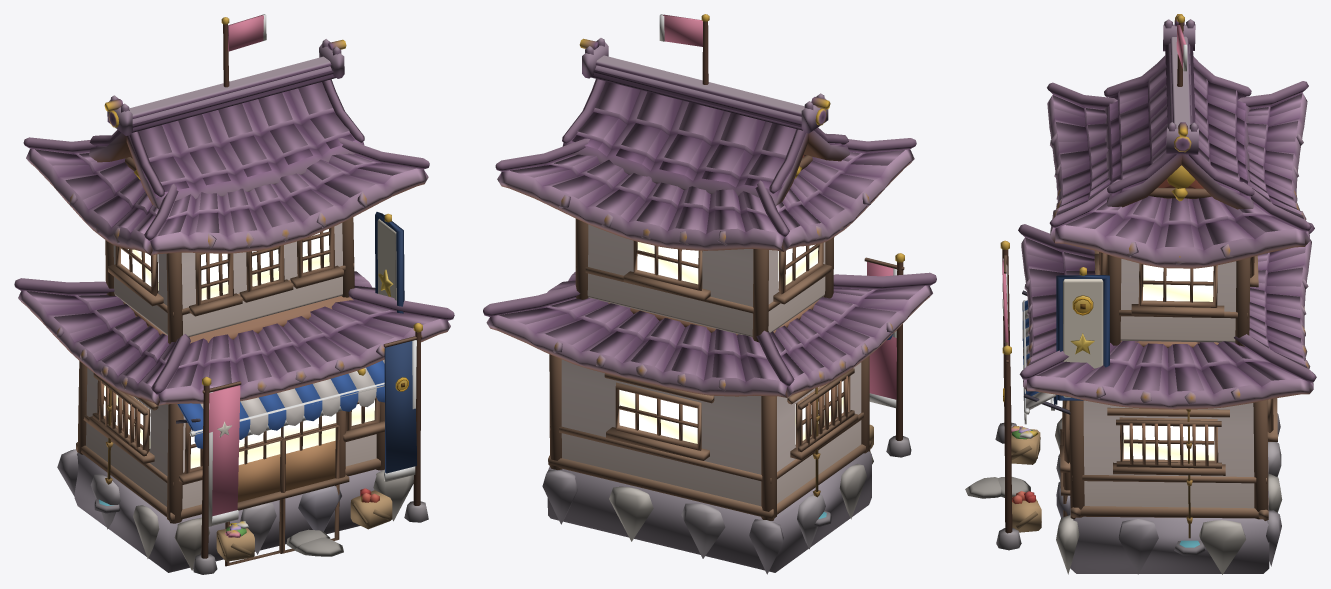
Rendered from shop-3-v7.glb.
3 renders of one model, left to right at view 1: azimuth 30°, elevation 25°; view 2: azimuth 150°, elevation 25°; view 3: azimuth 270°, elevation 25°, orthographic. The views are drawn at different scales.
Visible parts, largest first — view 1: shop, window_glow; view 2: shop, window_glow; view 3: shop, window_glow.
Boxes of the visible parts, x1=… form: shop: x1=14, y1=14, x2=454, y2=574; window_glow: x1=103, y1=229, x2=374, y2=468; shop: x1=483, y1=14, x2=936, y2=574; window_glow: x1=619, y1=242, x2=843, y2=444; shop: x1=965, y1=14, x2=1316, y2=574; window_glow: x1=1123, y1=264, x2=1214, y2=460.
Size of the model in its own units: 3.57 by 5.57 by 3.5.
